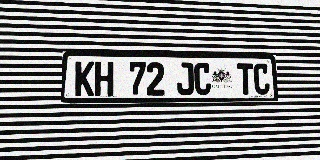2: (147, 62, 164, 95)
7: (128, 62, 146, 96)
C: (194, 63, 211, 95), (253, 63, 270, 95)
H: (94, 61, 114, 96)
J: (176, 62, 194, 95)
K: (75, 61, 94, 96)
T: (237, 63, 254, 95)
